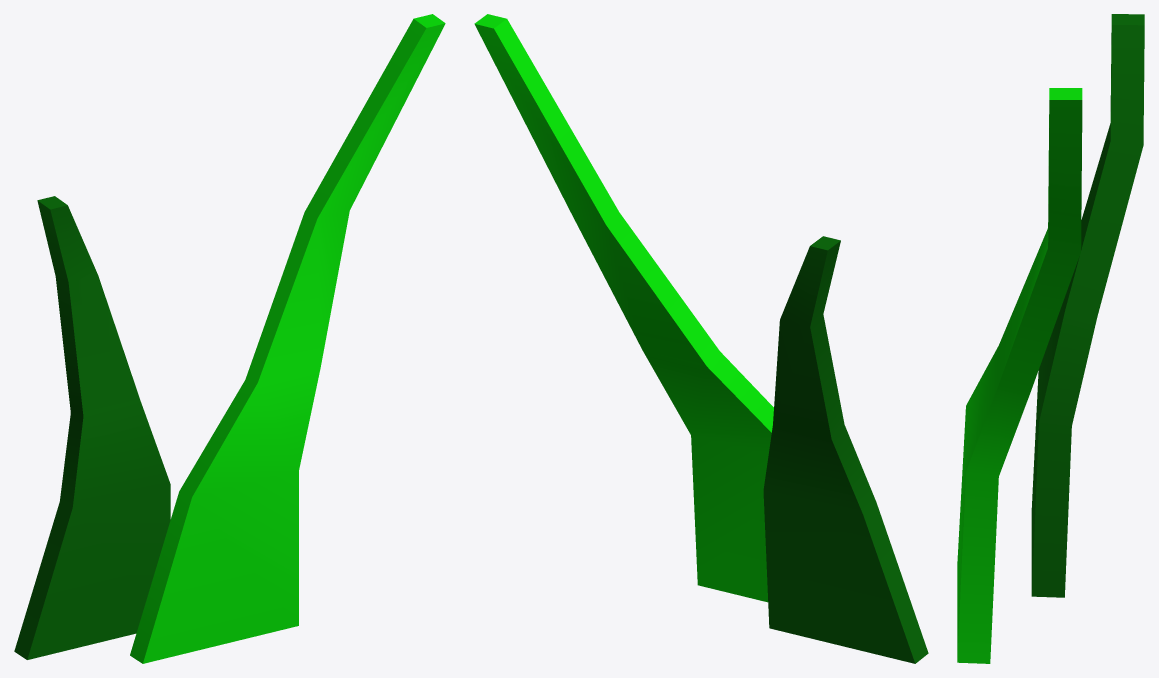
File: grama_conj_4.fbx
3 renders of one model, left to right at view 1: azimuth 30°, elevation 25°; view 2: azimuth 150°, elevation 25°; view 3: azimuth 270°, elevation 25°, orthographic. The views are drawn at different scales.
Parts seen in each view (by area): view 1: polySurface1; view 2: polySurface1; view 3: polySurface1.
Boxes of the visible parts, x1=… form: polySurface1: x1=14, y1=14, x2=445, y2=663; polySurface1: x1=474, y1=14, x2=928, y2=663; polySurface1: x1=957, y1=14, x2=1144, y2=663.
Bounding box in the file's own units: 0.1893 × 0.2263 × 0.0567.
